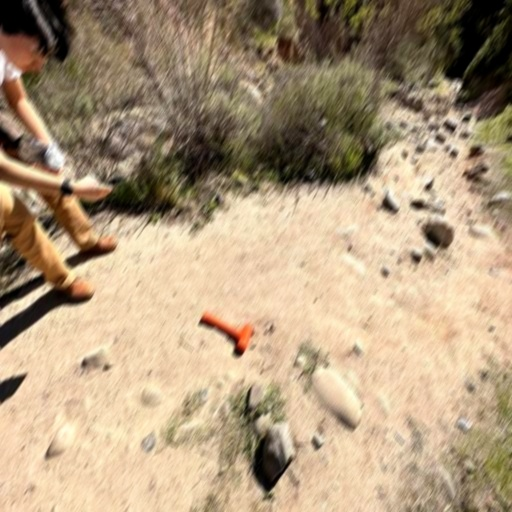bottle: (18, 136, 64, 170)
mallet: (202, 312, 252, 352)
